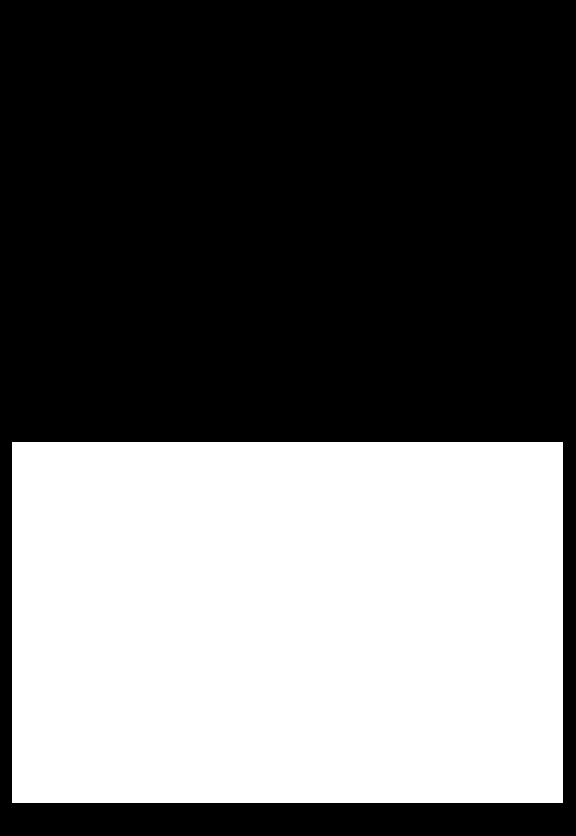table: (12, 442, 562, 802)
